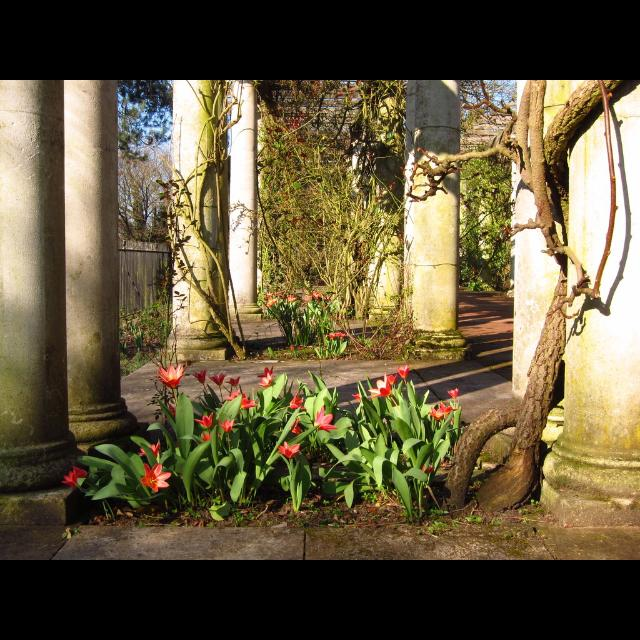Flower: (140, 462, 172, 492), (154, 364, 188, 388), (312, 404, 338, 434), (61, 465, 87, 489), (368, 372, 390, 400), (136, 440, 160, 460), (288, 390, 308, 410), (193, 409, 214, 428), (276, 441, 300, 457), (216, 416, 234, 434), (208, 371, 228, 387), (438, 400, 459, 414), (162, 402, 176, 422), (191, 368, 207, 384), (256, 364, 274, 378), (428, 405, 446, 419), (255, 374, 272, 388), (224, 387, 240, 401), (228, 374, 242, 388), (395, 364, 409, 378), (446, 387, 460, 401), (290, 418, 302, 434), (385, 372, 395, 386), (202, 430, 212, 442), (422, 464, 434, 474)
